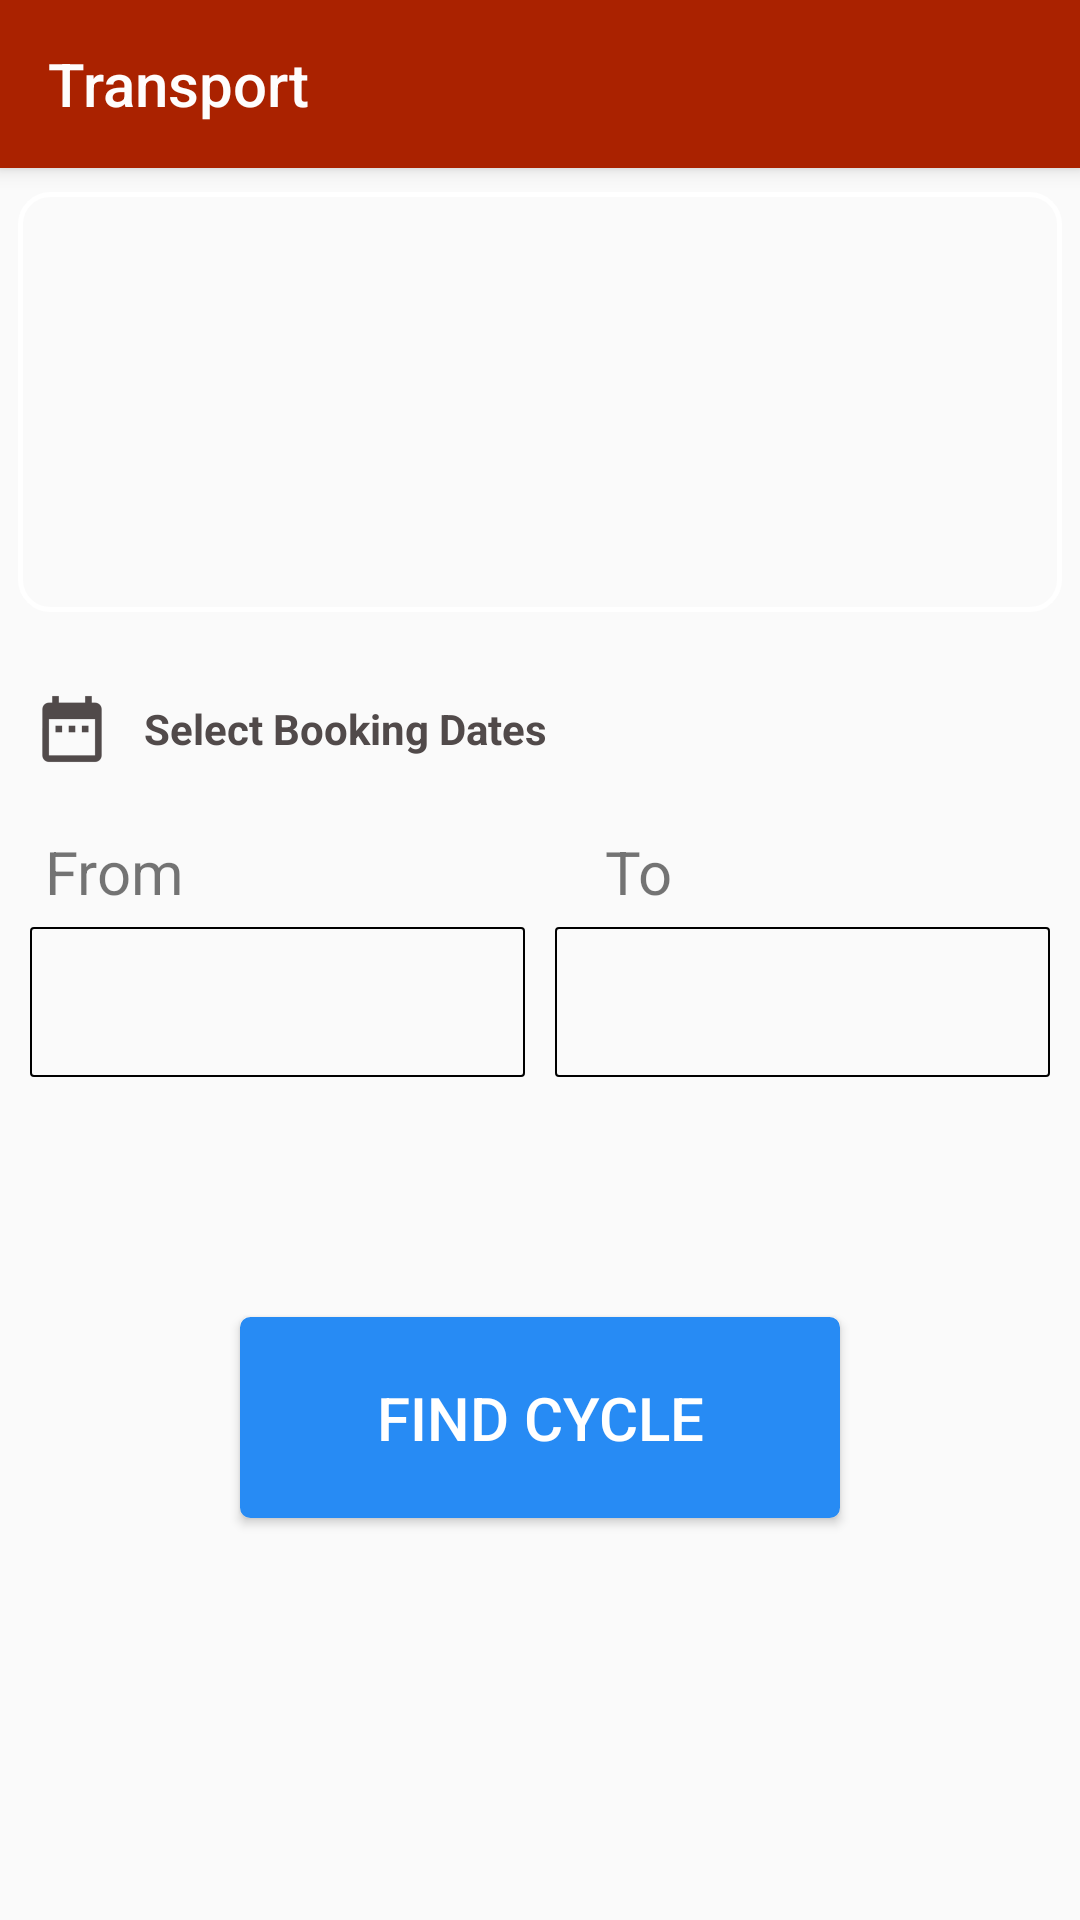

Point at icon controls on the screen. Image size 1080*1920, points as [x,y].
calen: [72,729]
